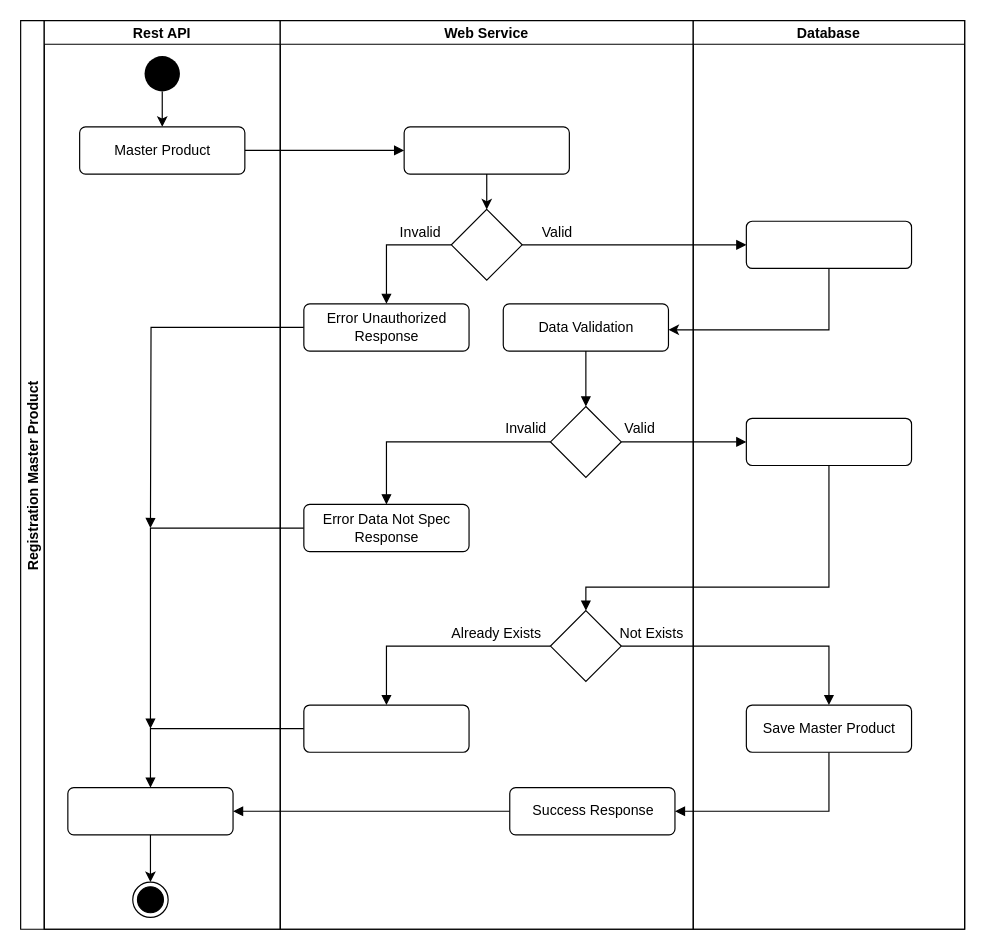
This 985x950 diagram has some shape labels left out. The shapes that lost their labels are listed below. From the top down, each one's centre as x and y in pixels, then its label:
the point at 486,150: Token Validation
the point at 828,244: Get User Detail (merchant id)
the point at 828,441: SKU Validation
the point at 386,728: Error Data Conflict Response
the point at 150,810: Display Response
